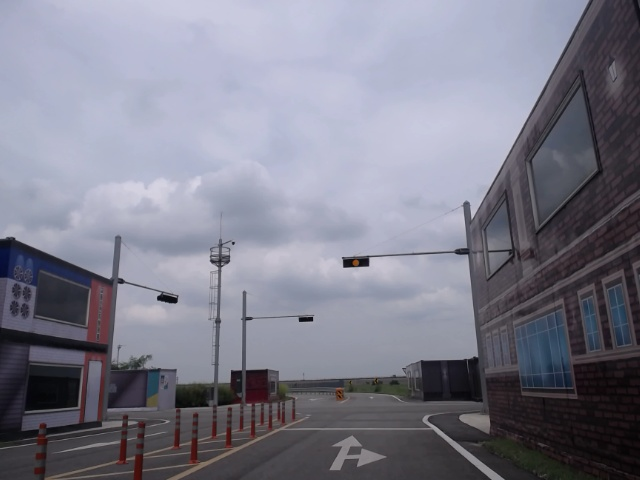orange_3: (342, 257, 369, 267)
